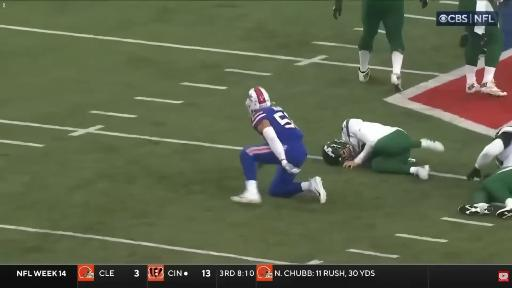Helmet: (322, 139, 357, 165), (246, 87, 271, 113)
Jersey: (252, 107, 303, 145), (342, 119, 399, 150), (496, 127, 511, 167)
Player: (232, 87, 326, 203), (323, 119, 444, 179), (459, 127, 511, 218), (359, 0, 404, 91), (461, 26, 506, 96)
